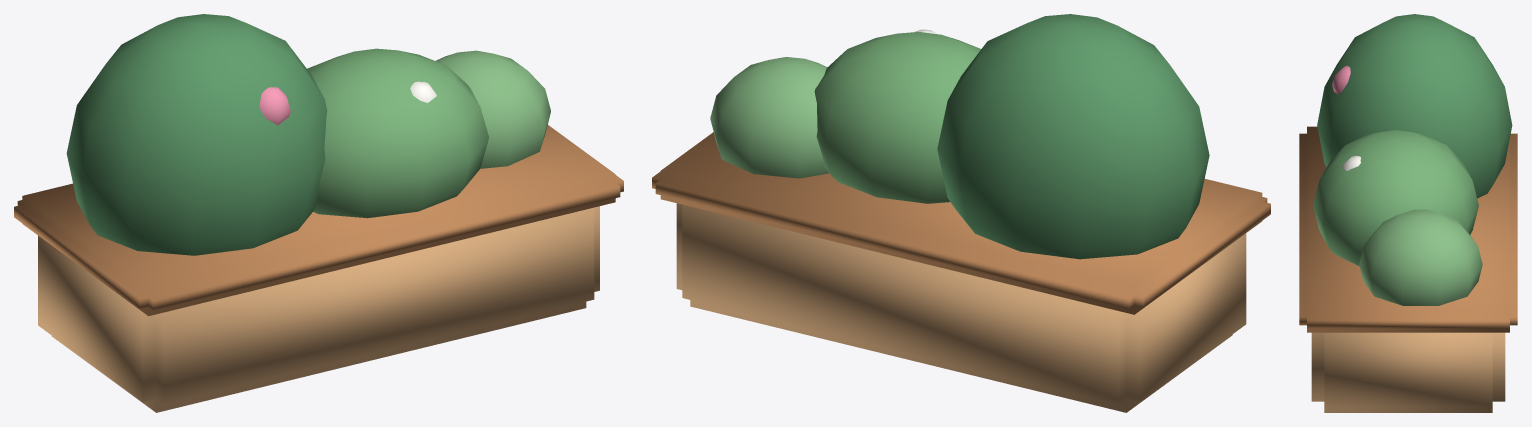
File: CoastalVegetationB.fbx
The picture shows the model from 3 angles, left to right: view 1: azimuth 30°, elevation 25°; view 2: azimuth 150°, elevation 25°; view 3: azimuth 270°, elevation 25°; orthographic projection. The views are drawn at different scales.
Visible parts, largest first — view 1: CoastalVegetationB; view 2: CoastalVegetationB; view 3: CoastalVegetationB.
Part boxes in pixels (x1=…): CoastalVegetationB: x1=14, y1=14, x2=623, y2=412; CoastalVegetationB: x1=652, y1=14, x2=1270, y2=412; CoastalVegetationB: x1=1299, y1=14, x2=1517, y2=412.
Bounding box in the file's own units: 1.44 × 0.917 × 0.7.
